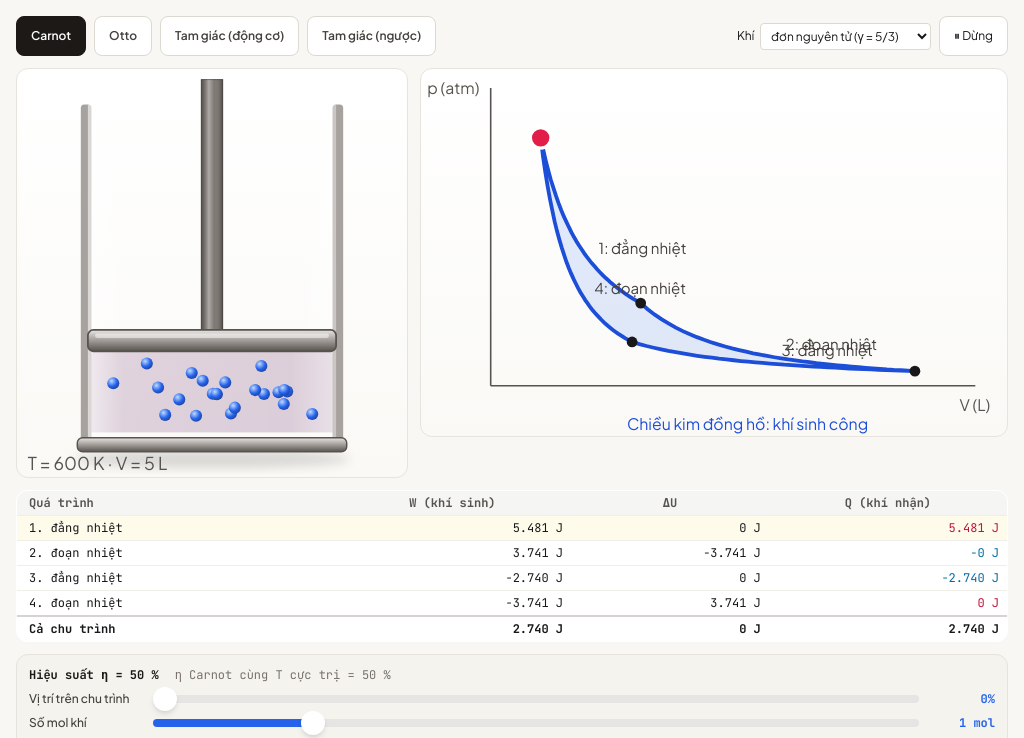
Test: GasEngine › tam giác: chiều thuận sinh công, chiều ngược nhận công (không phải động cơ)
Click the button with test id "gas-cycle-triangle".
click(230, 36)  # box x1=160 y1=16 x2=299 y2=56
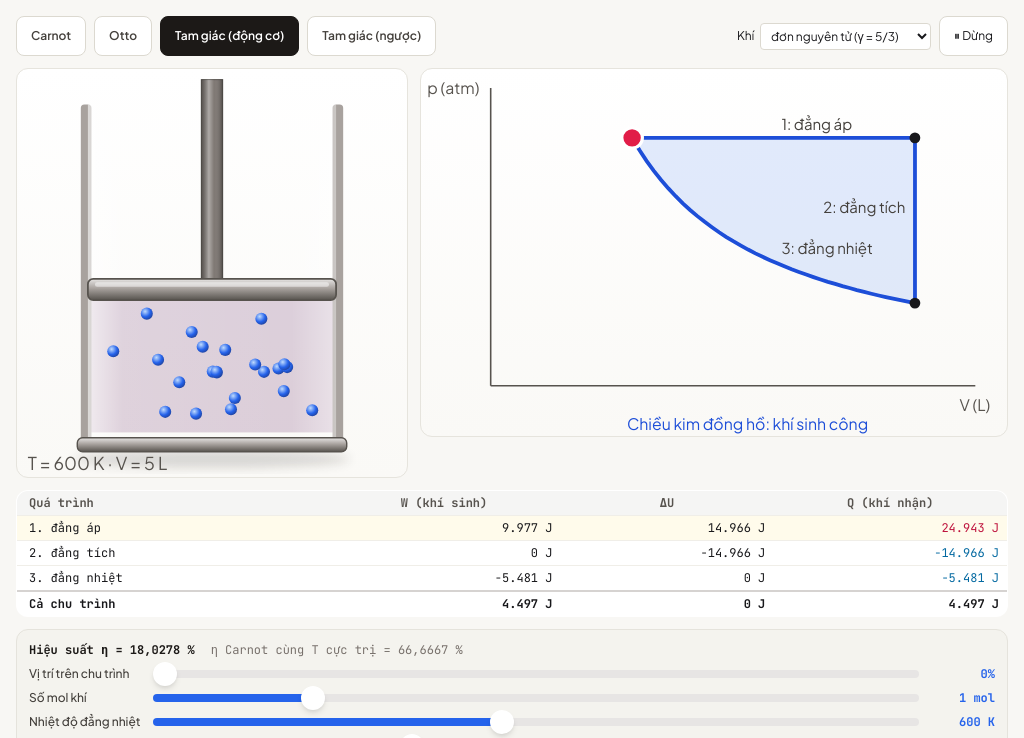
Click the button with test id "gas-cycle-triangleRev".
click(372, 36)  # box x1=307 y1=16 x2=436 y2=56
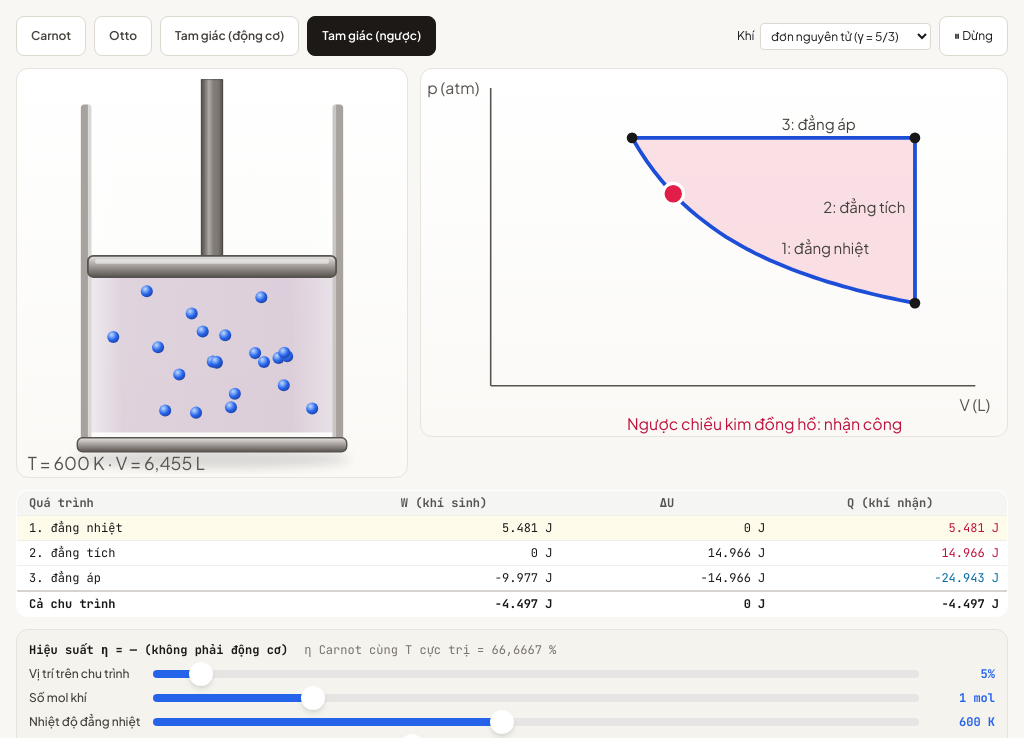
Now the text with test id "gas-eta" shows "không phải động cơ", box x1=130 y1=642 x2=288 y2=658
